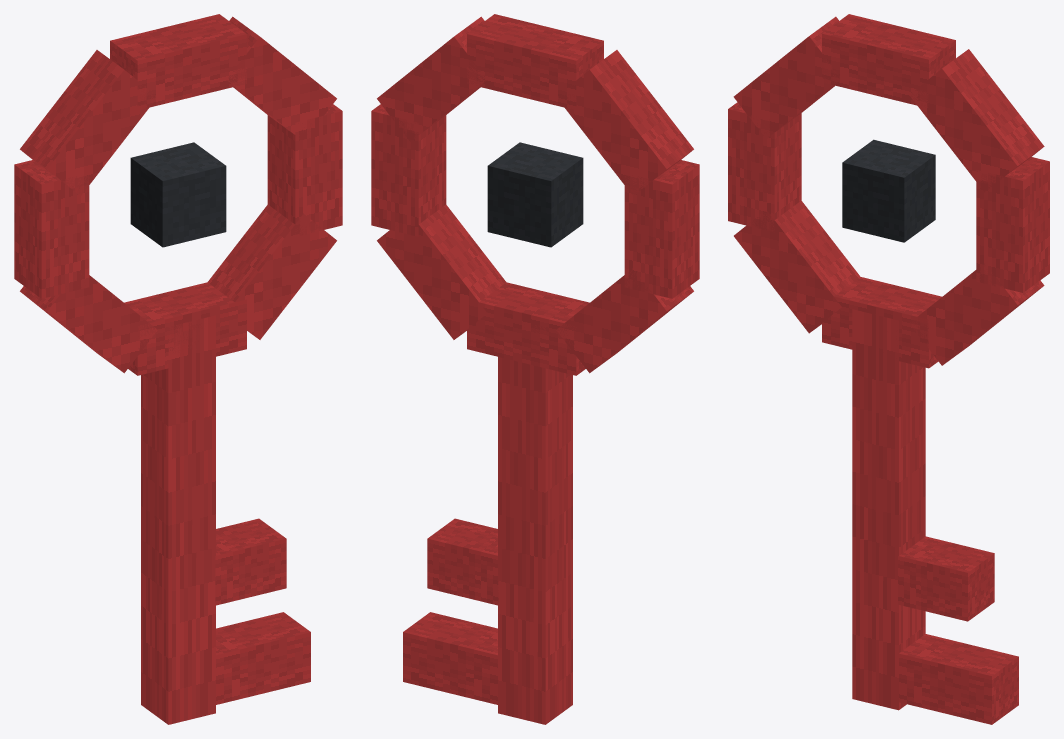
The model's file is pickup_key_red.glb.
The picture shows the model from 3 angles, left to right: view 1: azimuth 30°, elevation 25°; view 2: azimuth 150°, elevation 25°; view 3: azimuth 330°, elevation 25°; orthographic projection. The views are drawn at different scales.
Visible parts, largest first — view 1: pickup_key_red; view 2: pickup_key_red; view 3: pickup_key_red.
Part boxes in pixels (x1,y1,x2,y2): pickup_key_red: (14,14,342,724); pickup_key_red: (371,14,699,724); pickup_key_red: (728,14,1049,724).
Size of the model in its own units: 0.19 by 0.405 by 0.035.
Materials: 2 (2 with a texture image).
